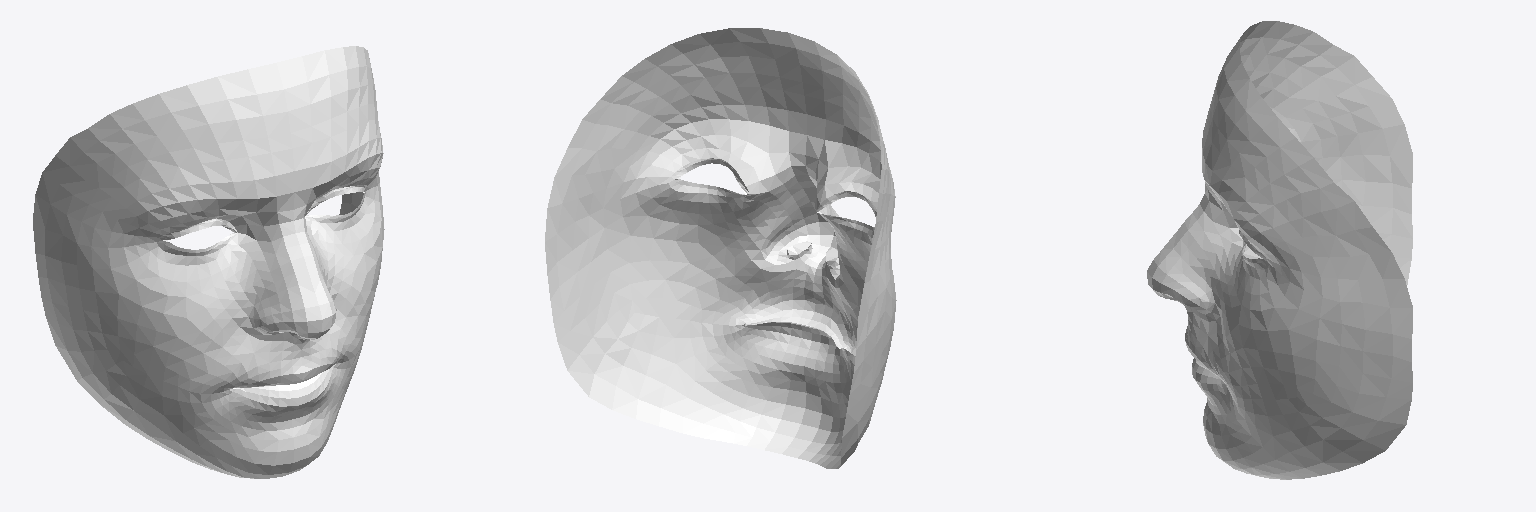
Rendered from natural.obj.
3 renders of one model, left to right at view 1: azimuth 30°, elevation 25°; view 2: azimuth 150°, elevation 25°; view 3: azimuth 270°, elevation 25°, orthographic.
Parts seen in each view (by area): view 1: default; view 2: default; view 3: default.
Boxes of the visible parts, <box> form: default: <box>33,46,384,478</box>; default: <box>545,28,896,468</box>; default: <box>1147,21,1412,479</box>.
Bounding box in the file's own units: 0.1447 × 0.182 × 0.1055.